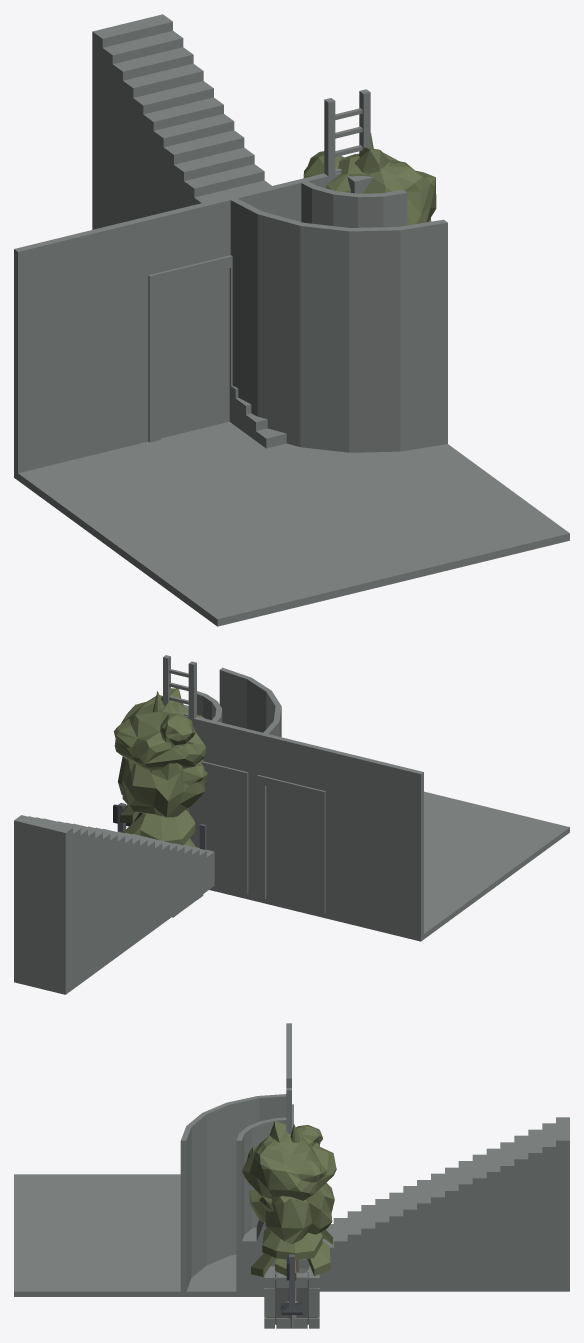
3 views of the same model, one above another, from view 1: azimuth 30°, elevation 25°; view 2: azimuth 150°, elevation 25°; view 3: azimuth 270°, elevation 25° (orthographic). The views are drawn at different scales.
Parts seen in each view (by area): view 1: SM_Buildings_Floor_5x5_01-col, SM_Buildings_WallCurved_2x2_01-col, SM_Buildings_Wall_5x3_01-col, SM_Buildings_Stairs_1x3_01-col, SM_Buildings_Wall_5x3_01P-col, SM_Buildings_WallDoor_5x3_01-col, SM_Buildings_WallCurved_1x1_01-col, SM_Generic_Tree_01-col, SM_Buildings_Floor_2x2_01-col, SM_Prop_Ladder_1x4_01-col, SM_Buildings_Stairs_1x2_01-col, SM_Buildings_Wall_2x3_01P-col; view 2: SM_Buildings_Stairs_1x3_01-col, SM_Buildings_WallDoor_5x3_01-col, SM_Buildings_Wall_5x3_01-col, SM_Buildings_Wall_5x3_01P-col, SM_Buildings_Floor_5x5_01-col, SM_Generic_Tree_01-col, SM_Generic_Tree_03-col, SM_Buildings_WallCurved_2x2_01-col, SM_Generic_Tree_02-col, SM_Buildings_WallDoor_2x3_01-col, SM_Prop_Ladder_1x4_01-col, SM_Buildings_Wall_2x3_01P-col (+3 smaller); view 3: SM_Buildings_Stairs_1x3_01-col, SM_Buildings_Floor_5x5_01-col, SM_Buildings_WallCurved_2x2_01-col, SM_Generic_Tree_01-col, SM_Generic_Tree_03-col, SM_Prop_Crate_01-col, SM_Generic_Tree_02-col, SM_Buildings_WallCurved_1x1_01-col, SM_Buildings_Floor_2x2_01-col, SM_Buildings_Block_1x1_01-col, SM_Prop_Barrier_01-col, SM_Buildings_Ramp_70_1x1_01-col.
Boxes of the visible parts, box(x1,y1,x2,y2) form: SM_Buildings_Floor_5x5_01-col: box(14, 422, 569, 626); SM_Buildings_WallCurved_2x2_01-col: box(228, 195, 447, 452); SM_Buildings_Wall_5x3_01-col: box(14, 184, 299, 472); SM_Buildings_Stairs_1x3_01-col: box(92, 14, 271, 229); SM_Buildings_Wall_5x3_01P-col: box(14, 174, 326, 467); SM_Buildings_WallDoor_5x3_01-col: box(14, 184, 299, 472); SM_Buildings_WallCurved_1x1_01-col: box(301, 181, 407, 227); SM_Generic_Tree_01-col: box(303, 151, 436, 225); SM_Buildings_Floor_2x2_01-col: box(266, 443, 445, 478); SM_Prop_Ladder_1x4_01-col: box(324, 89, 370, 183); SM_Buildings_Stairs_1x2_01-col: box(229, 385, 286, 448); SM_Buildings_Wall_2x3_01P-col: box(228, 173, 323, 220); SM_Buildings_Stairs_1x3_01-col: box(14, 815, 214, 994); SM_Buildings_WallDoor_5x3_01-col: box(188, 718, 423, 935); SM_Buildings_Wall_5x3_01-col: box(185, 716, 423, 935); SM_Buildings_Wall_5x3_01P-col: box(189, 716, 423, 931); SM_Buildings_Floor_5x5_01-col: box(210, 791, 569, 941); SM_Generic_Tree_01-col: box(113, 695, 207, 785); SM_Generic_Tree_03-col: box(118, 688, 204, 817); SM_Buildings_WallCurved_2x2_01-col: box(219, 667, 281, 775); SM_Generic_Tree_02-col: box(120, 691, 195, 847); SM_Buildings_WallDoor_2x3_01-col: box(186, 718, 257, 894); SM_Prop_Ladder_1x4_01-col: box(163, 655, 196, 841); SM_Buildings_Wall_2x3_01P-col: box(191, 720, 266, 883); SM_Buildings_Stairs_1x3_01-col: box(240, 1117, 569, 1291); SM_Buildings_Floor_5x5_01-col: box(14, 1174, 263, 1296); SM_Buildings_WallCurved_2x2_01-col: box(180, 1094, 286, 1291); SM_Generic_Tree_01-col: box(242, 1125, 336, 1211); SM_Generic_Tree_03-col: box(249, 1121, 334, 1244); SM_Prop_Crate_01-col: box(264, 1266, 319, 1328); SM_Generic_Tree_02-col: box(251, 1124, 332, 1280); SM_Buildings_WallCurved_1x1_01-col: box(236, 1117, 286, 1291); SM_Buildings_Floor_2x2_01-col: box(180, 1279, 264, 1296); SM_Buildings_Block_1x1_01-col: box(236, 1227, 262, 1291); SM_Prop_Barrier_01-col: box(281, 1254, 302, 1314); SM_Buildings_Ramp_70_1x1_01-col: box(238, 1220, 266, 1288).
Size of the model in its own units: 5.99 by 4.54 by 10.
Materials: 1 (1 with a texture image).
